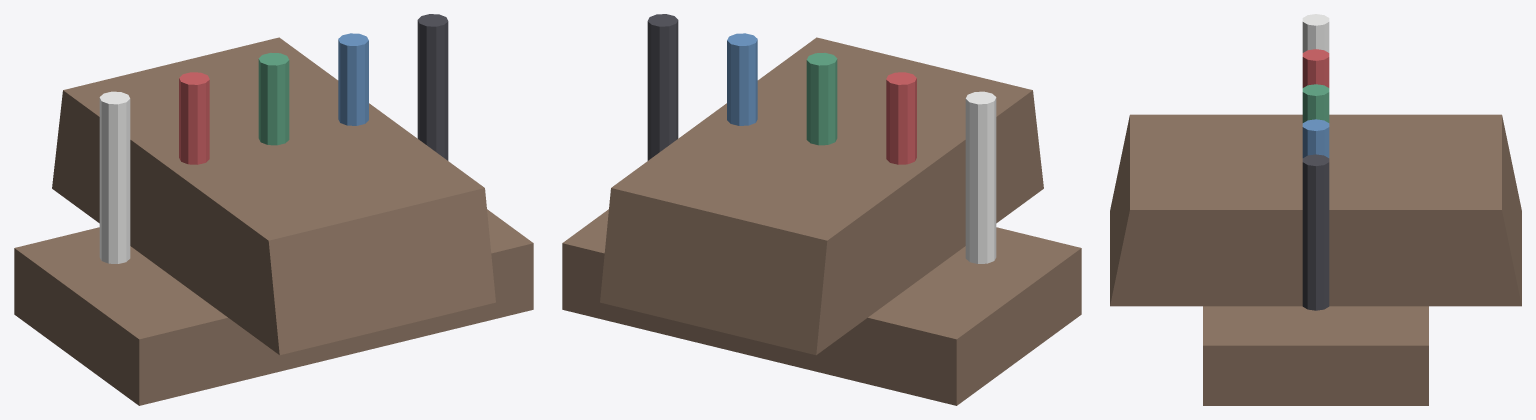
Rendered from casino-floor-and-back-rooms-chip-rack-965f4adc__27011.glb.
3 views of the same model, side by side, from view 1: azimuth 30°, elevation 25°; view 2: azimuth 150°, elevation 25°; view 3: azimuth 270°, elevation 25° (orthographic). The views are drawn at different scales.
Parts seen in each view (by area): view 1: chip-rack; view 2: chip-rack; view 3: chip-rack.
Part boxes in pixels (x1,y1,x2,y2): chip-rack: (14, 14, 533, 405); chip-rack: (562, 14, 1081, 405); chip-rack: (1110, 14, 1521, 405).
Size of the model in its own units: 0.62 by 0.38 by 0.62.
